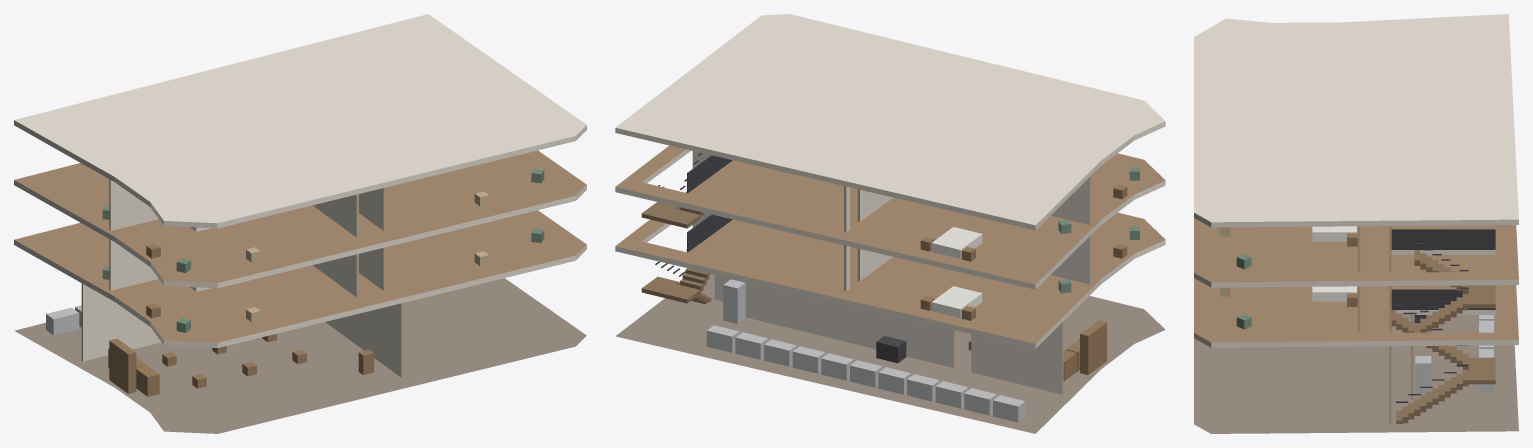
The model's file is interior.glb.
3 views of the same model, side by side, from view 1: azimuth 30°, elevation 25°; view 2: azimuth 150°, elevation 25°; view 3: azimuth 270°, elevation 25° (orthographic).
Parts seen in each view (by area): view 1: slabs, partitions, coarse-s0, coarse-s1, coarse-s2; view 2: slabs, partitions, coarse-s0, stair, coarse-s1, coarse-s2; view 3: slabs, stair, coarse-s0, partitions, coarse-s2, coarse-s1.
Part boxes in pixels (x1,y1,x2,y2): slabs: (14, 14, 586, 433); partitions: (81, 179, 403, 377); coarse-s0: (46, 305, 374, 396); coarse-s1: (102, 228, 544, 332); coarse-s2: (102, 169, 544, 273); slabs: (615, 14, 1165, 433); partitions: (692, 151, 1091, 394); coarse-s0: (706, 279, 1106, 422); stair: (641, 153, 732, 304); coarse-s1: (920, 226, 1139, 320); coarse-s2: (920, 167, 1139, 261); slabs: (1194, 14, 1518, 433); stair: (1391, 229, 1495, 423); coarse-s0: (1414, 315, 1493, 399); partitions: (1357, 226, 1413, 423); coarse-s2: (1219, 226, 1357, 269); coarse-s1: (1219, 286, 1357, 329).
Bounding box in the file's own units: 22.05 × 10.47 × 14.54.
